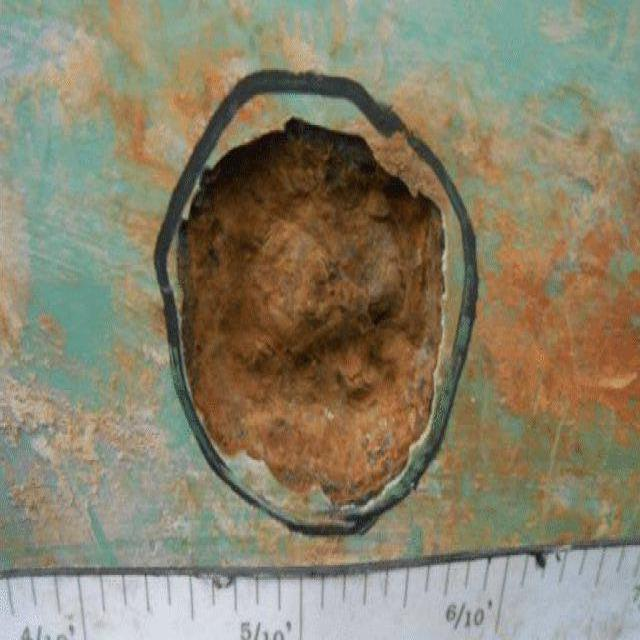non-corrosion: (0, 0, 640, 568)
